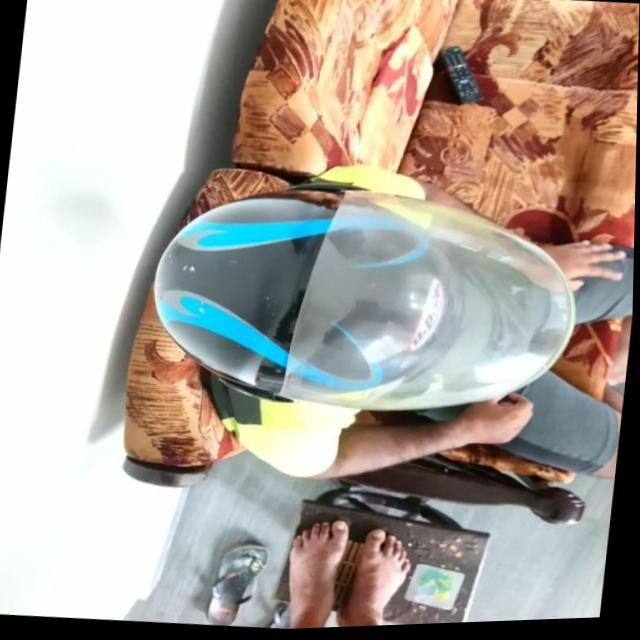helmet: (142, 161, 591, 436)
